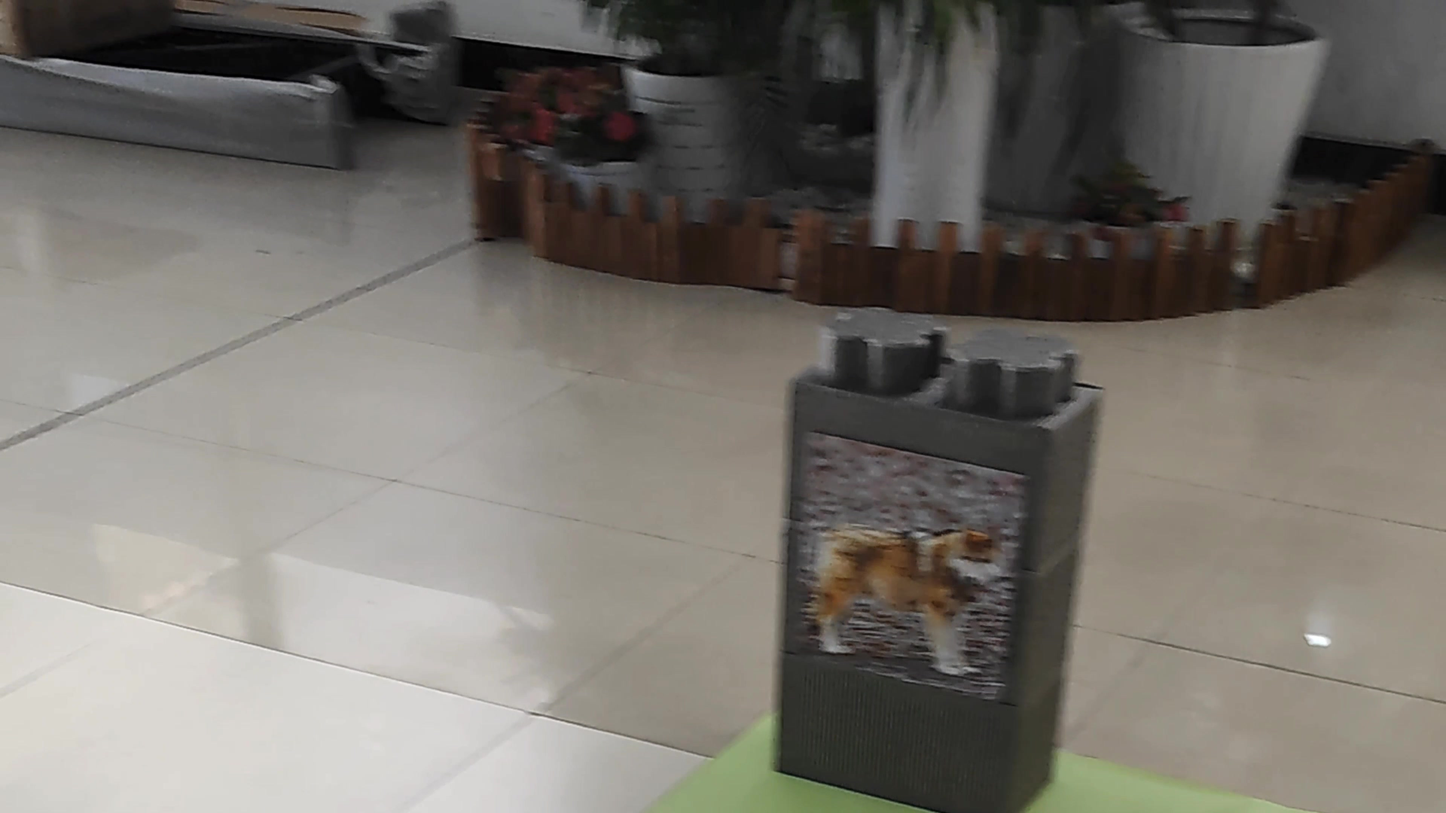wolf: (798, 494, 1000, 688)
